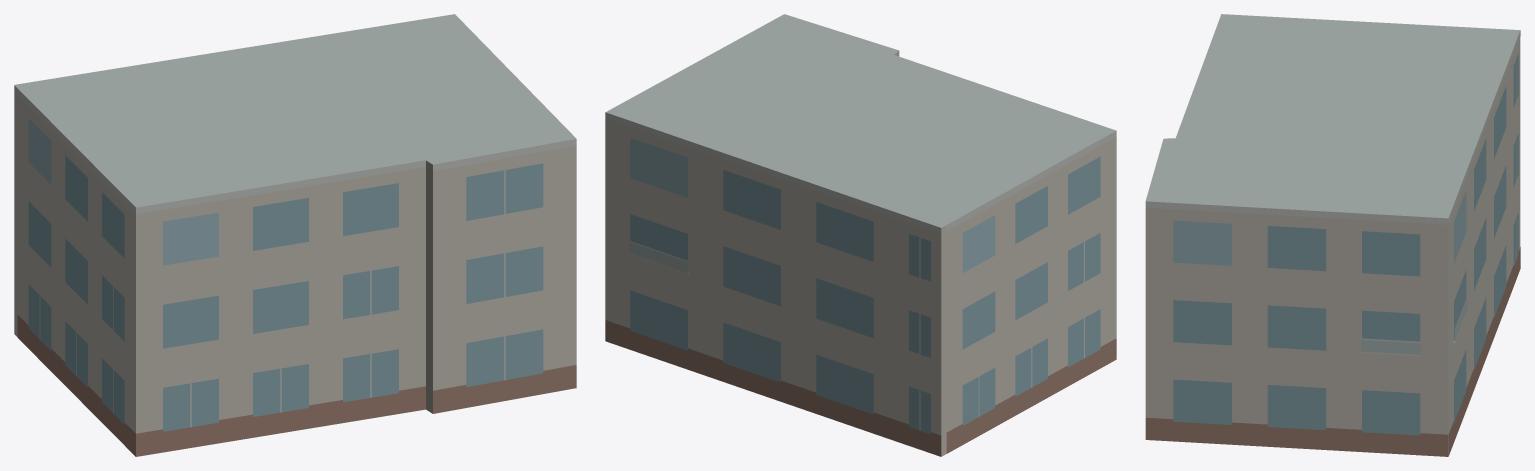
Rendered from survey-upis-32586428.glb.
3 renders of one model, left to right at view 1: azimuth 30°, elevation 25°; view 2: azimuth 150°, elevation 25°; view 3: azimuth 270°, elevation 25°, orthographic. The views are drawn at different scales.
Parts seen in each view (by area): view 1: survey-upis-32586428.tmp; view 2: survey-upis-32586428.tmp; view 3: survey-upis-32586428.tmp.
Part boxes in pixels (x1,y1,x2,y2): survey-upis-32586428.tmp: (14, 14, 576, 456); survey-upis-32586428.tmp: (605, 14, 1116, 456); survey-upis-32586428.tmp: (1145, 14, 1520, 456).
Bounding box in the file's own units: 16.82 × 9.15 × 13.05.
